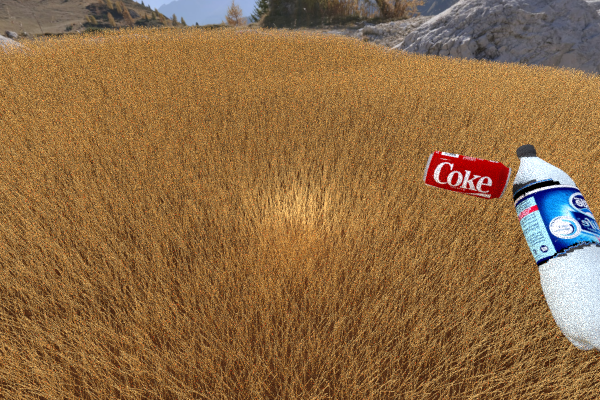Plastic Bottle: (512, 144, 600, 352), (423, 150, 511, 199)
